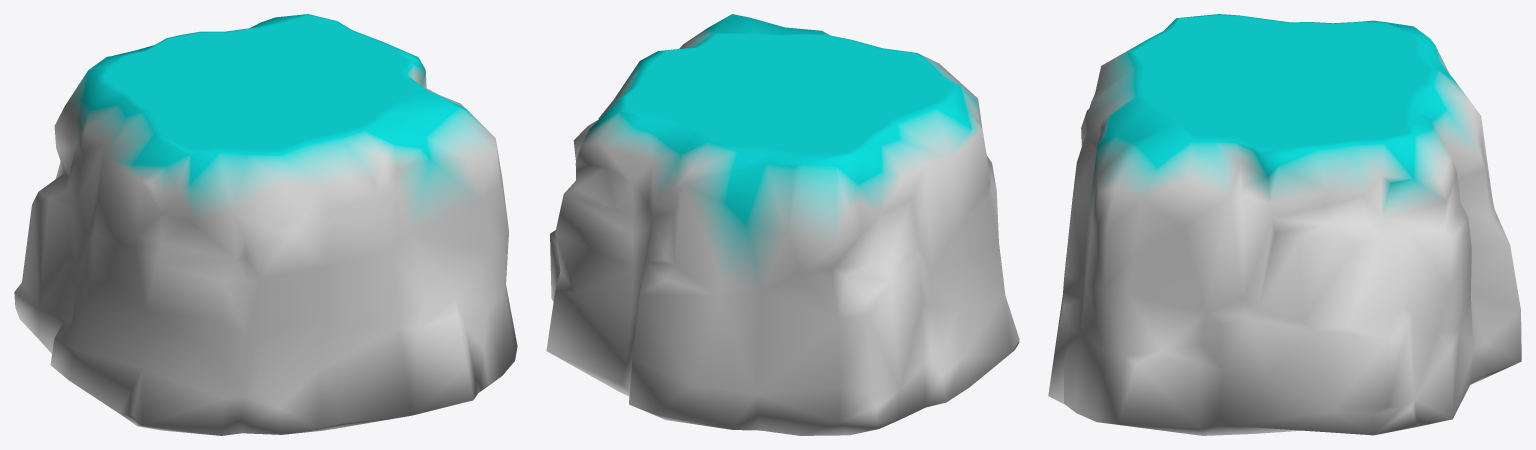
The model's file is Homeworld_Exterior_Common_Rockery_06_Lod0.fbx.
The picture shows the model from 3 angles, left to right: view 1: azimuth 30°, elevation 25°; view 2: azimuth 150°, elevation 25°; view 3: azimuth 270°, elevation 25°; orthographic projection. The views are drawn at different scales.
Visible parts, largest first — view 1: Homeworld_Exterior_Common_Rockery_06_Lod0; view 2: Homeworld_Exterior_Common_Rockery_06_Lod0; view 3: Homeworld_Exterior_Common_Rockery_06_Lod0.
Part boxes in pixels (box(x1,y1,x2,y2)): Homeworld_Exterior_Common_Rockery_06_Lod0: box(14, 14, 517, 435); Homeworld_Exterior_Common_Rockery_06_Lod0: box(546, 14, 1019, 435); Homeworld_Exterior_Common_Rockery_06_Lod0: box(1048, 14, 1521, 435).
Size of what is drawn, in the model's own units: 8.11 by 5.58 by 8.36.
